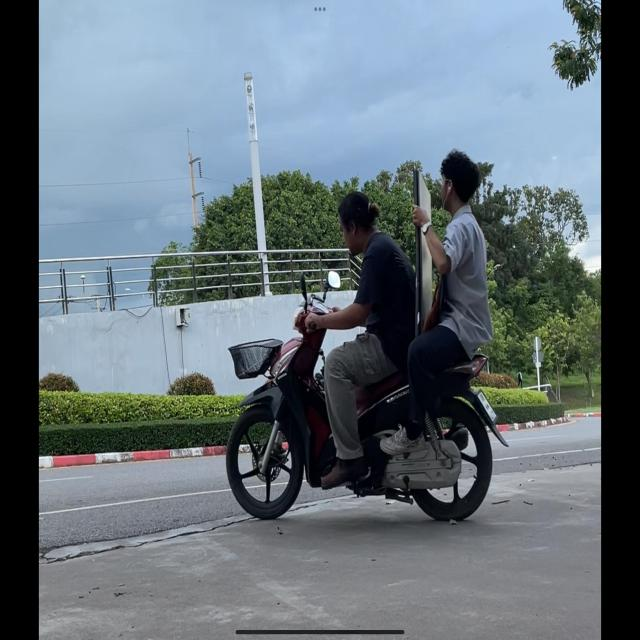seatbelt: (336, 190, 383, 257), (438, 148, 481, 214)
